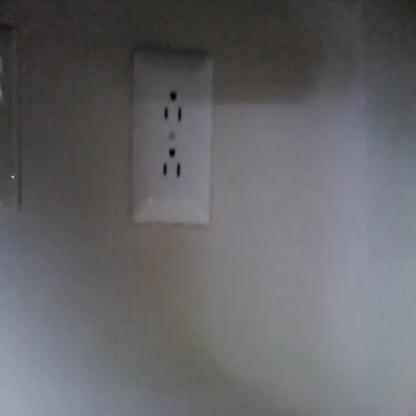OUTLET: (132, 50, 213, 226)
